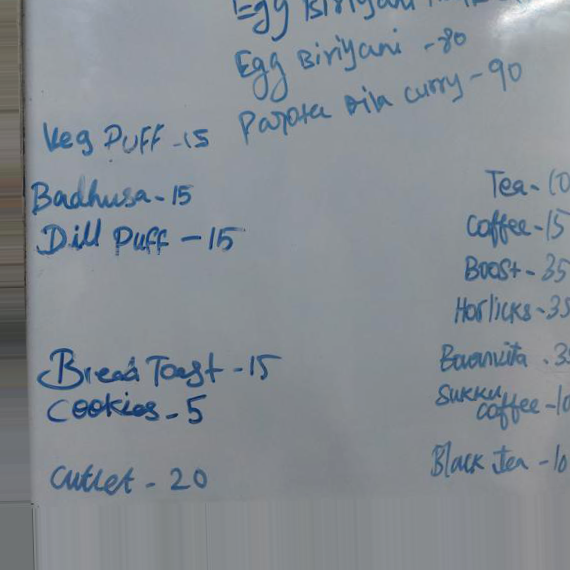Tea - 10: (480, 162, 570, 200)
badhusa -15: (30, 177, 201, 216)
black tea - 10: (422, 434, 570, 483)
boost - 35: (462, 248, 569, 288)
bournvita - 35: (435, 337, 570, 377)
bread toast - 15: (33, 342, 280, 391)
coffee - 15: (464, 205, 568, 245)
cookies - 5: (44, 392, 212, 434)
cutlet - 20: (43, 459, 220, 498)
dill puff - 15: (32, 217, 253, 269)
egg briyani - 80: (232, 34, 406, 84)
horlicks - 35: (450, 292, 570, 330)
parotta - 90: (234, 83, 466, 139)
sukku coffee - 10: (429, 378, 570, 431)
veg puff - 15: (38, 115, 220, 170)
